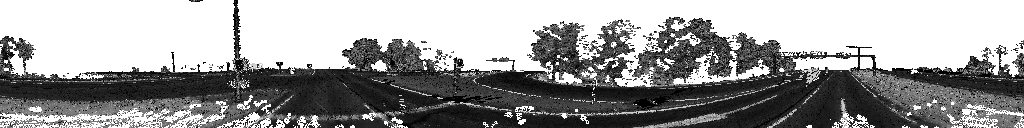gantry_sign_pole: (782, 51, 880, 75)
light_pole: (234, 0, 244, 104), (846, 47, 871, 70), (171, 53, 174, 73), (189, 0, 202, 3), (226, 63, 229, 74)
traffic_pole: (450, 58, 463, 95), (909, 69, 919, 92), (590, 78, 596, 105), (276, 63, 282, 77), (390, 62, 394, 77)
